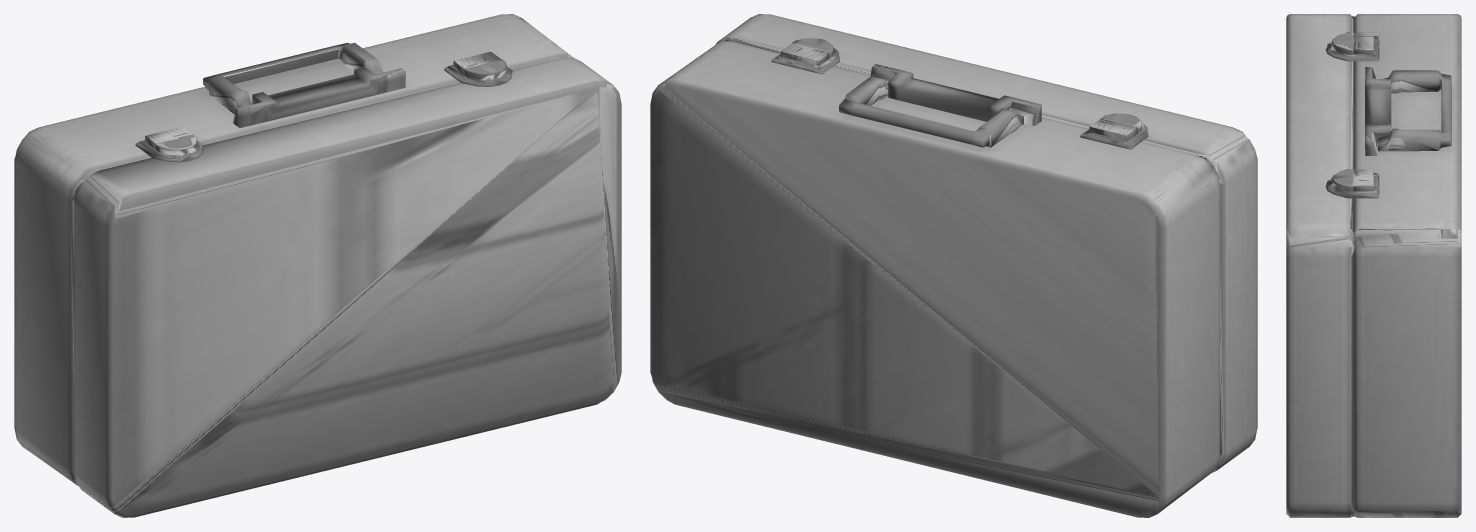
File: medkit.glb
The picture shows the model from 3 angles, left to right: view 1: azimuth 30°, elevation 25°; view 2: azimuth 150°, elevation 25°; view 3: azimuth 270°, elevation 25°; orthographic projection. The views are drawn at different scales.
Visible parts, largest first — view 1: medkit; view 2: medkit; view 3: medkit.
Boxes of the visible parts, x1,y1,x2,y2 form: medkit: [14, 14, 621, 517]; medkit: [650, 14, 1257, 517]; medkit: [1286, 14, 1461, 517].
Bounding box in the file's own units: 0.34 × 0.2159 × 0.1105.
Materials: 1 (1 with a texture image).
